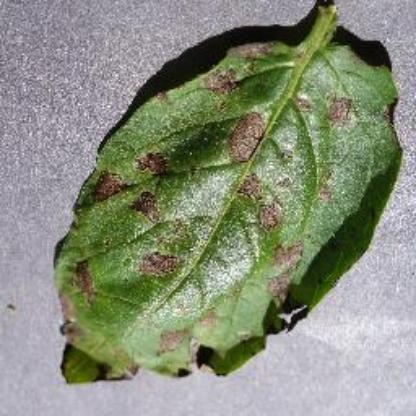Early-Blight: (53, 0, 415, 392)
